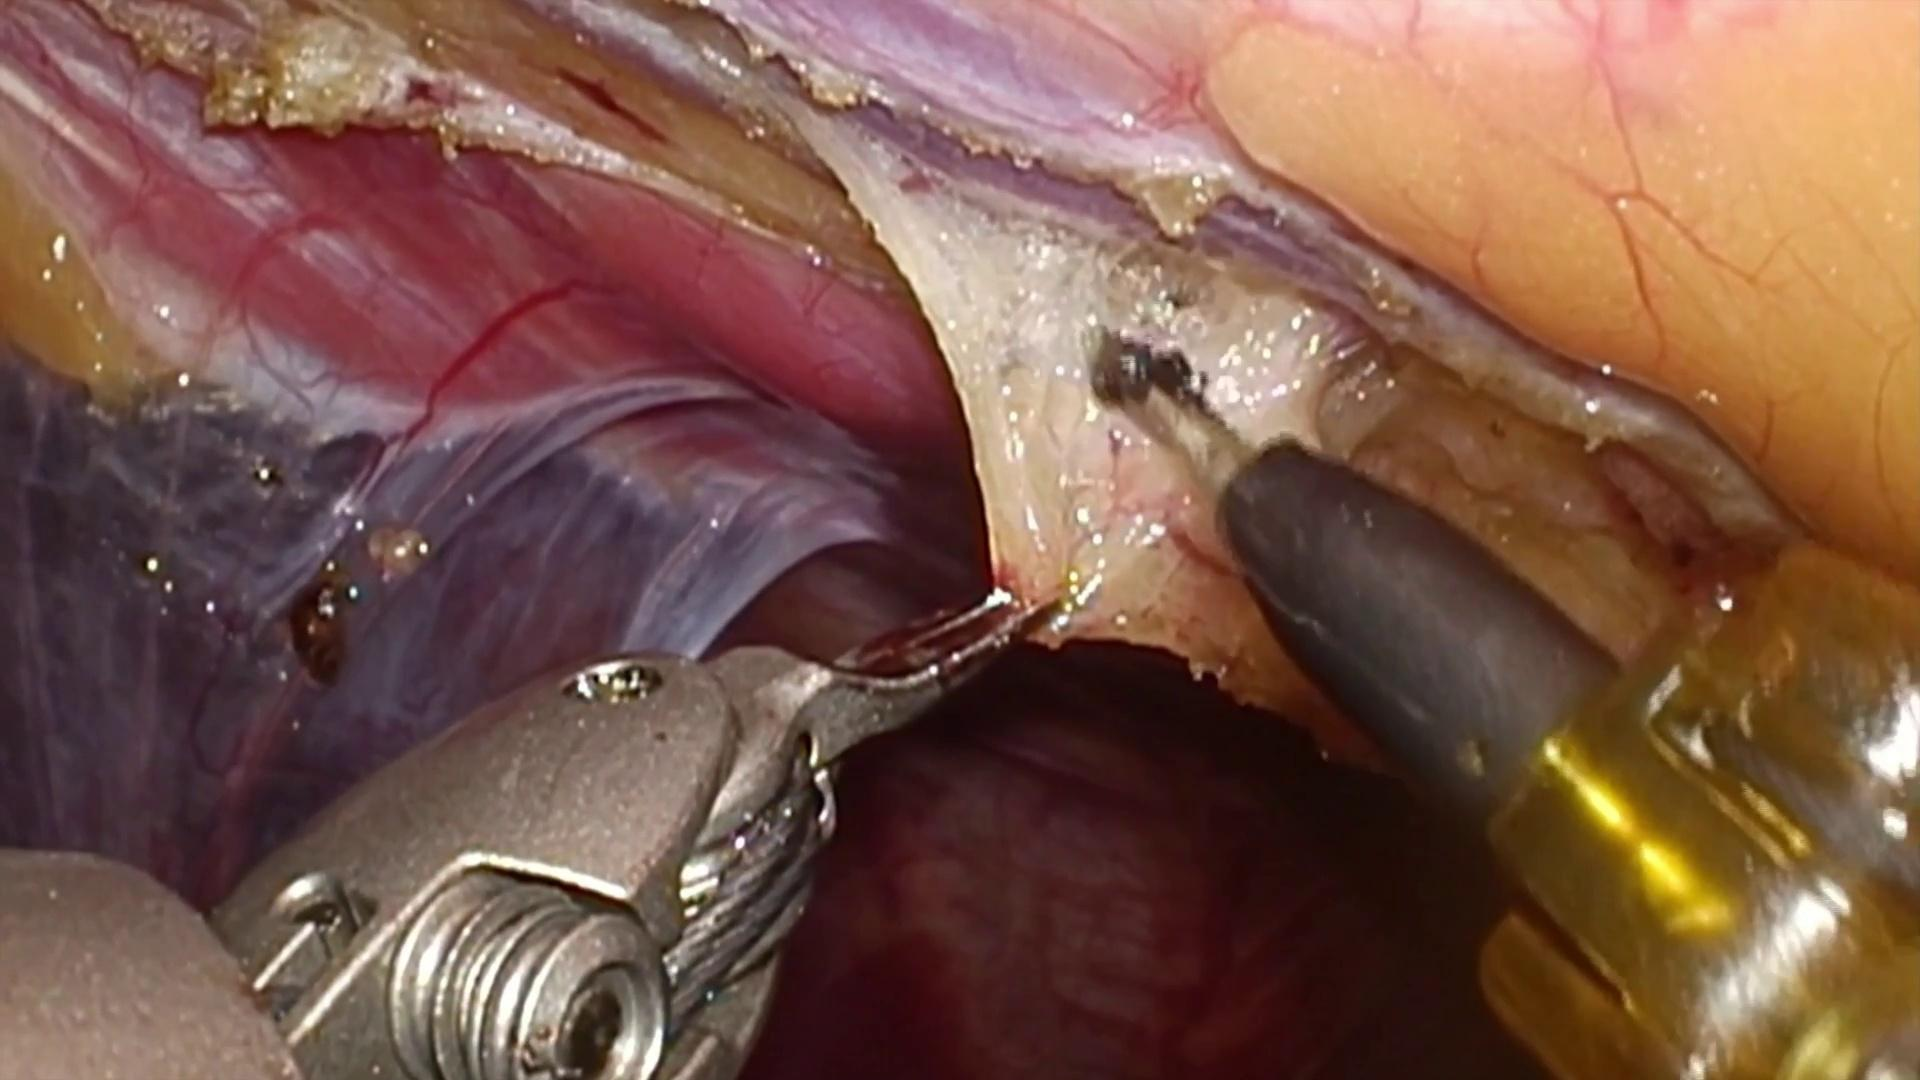Cautery_Spatula: (1096, 343, 1629, 837)
Debakey: (728, 564, 1047, 798)
